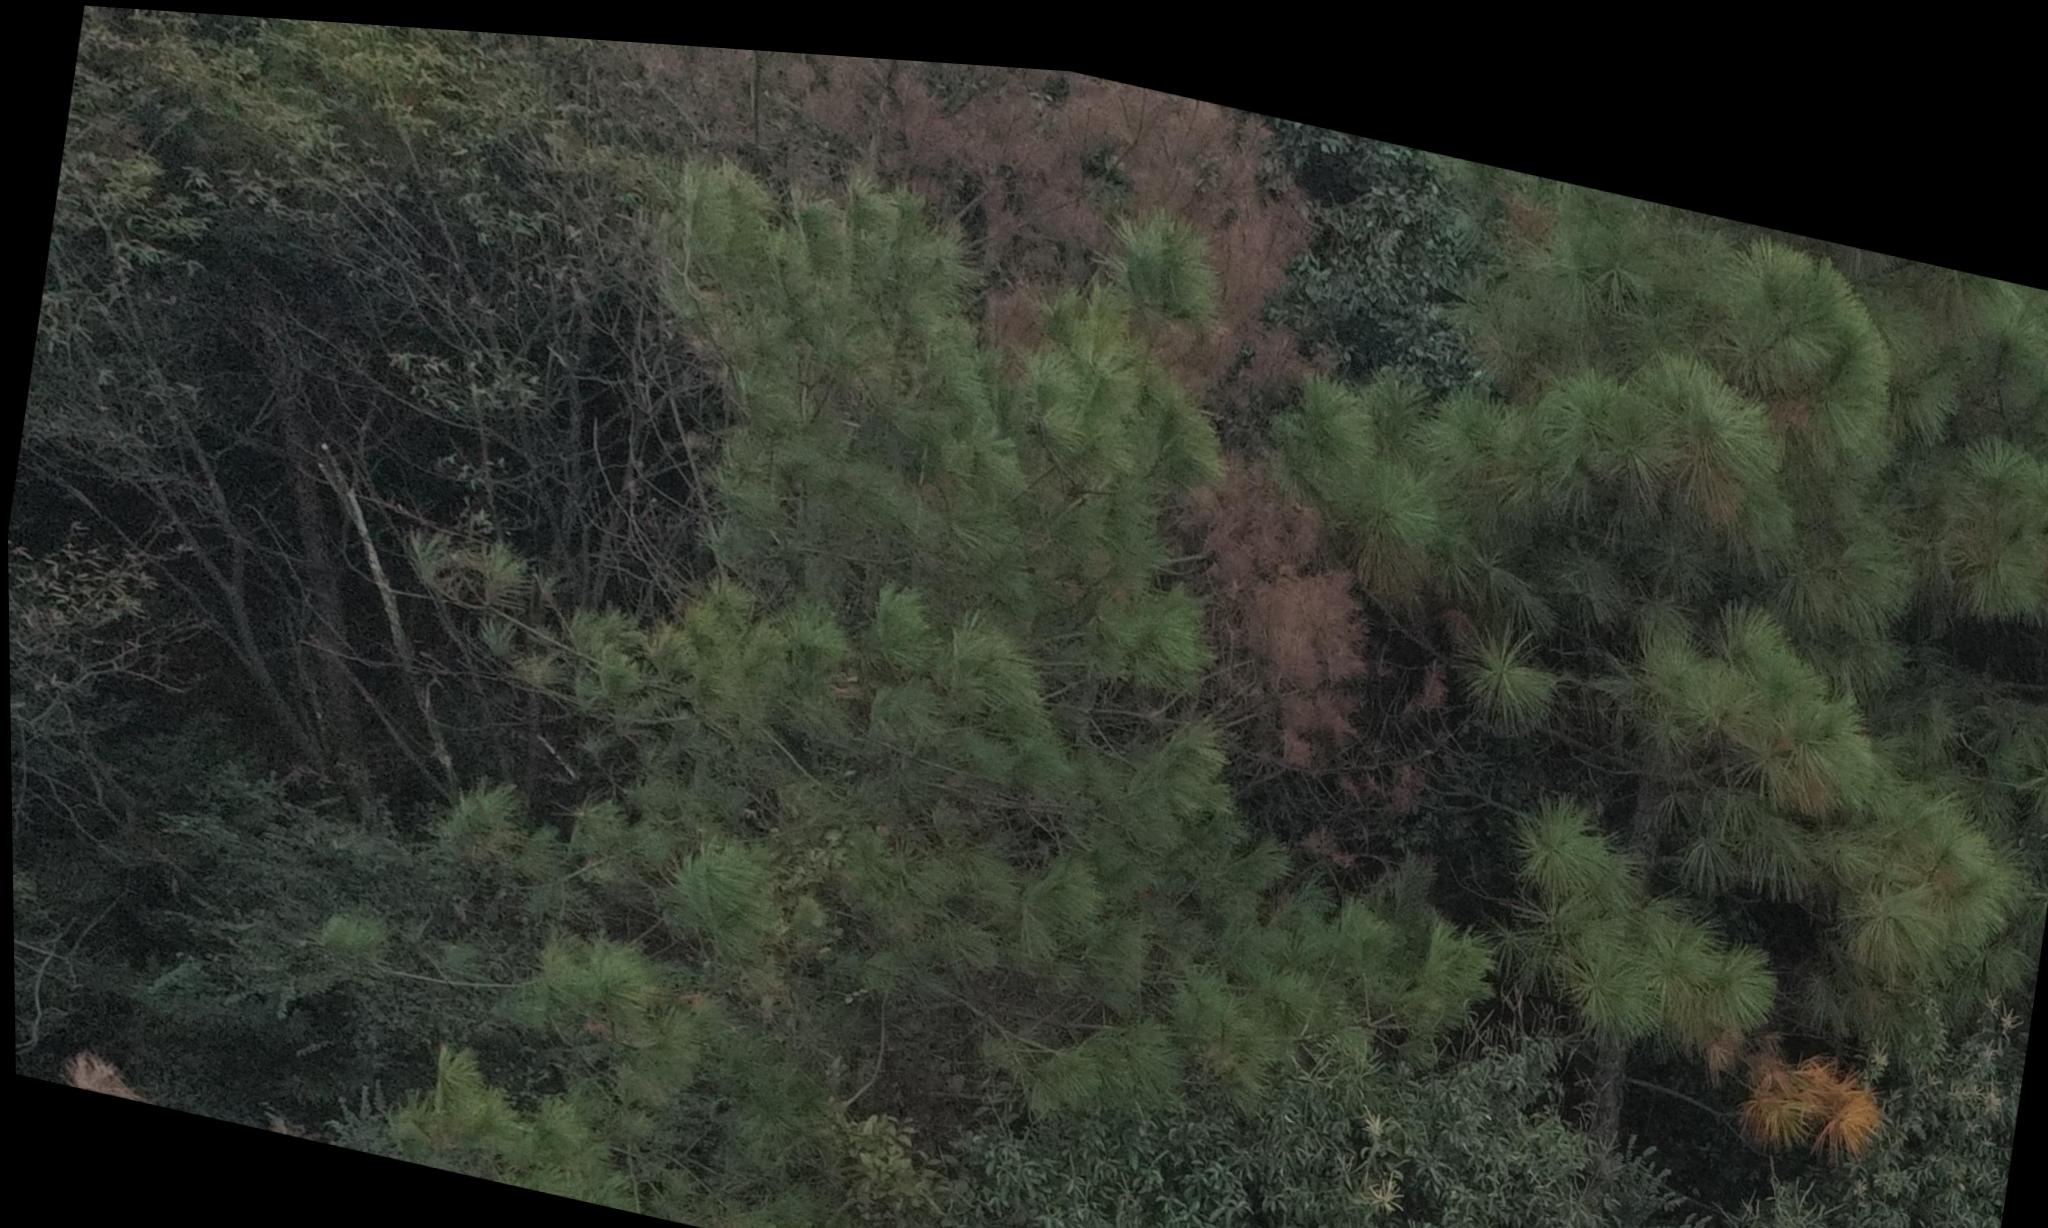heavy: (522, 28, 1335, 377), (1150, 415, 1396, 751)
light: (1469, 234, 2048, 1174)
